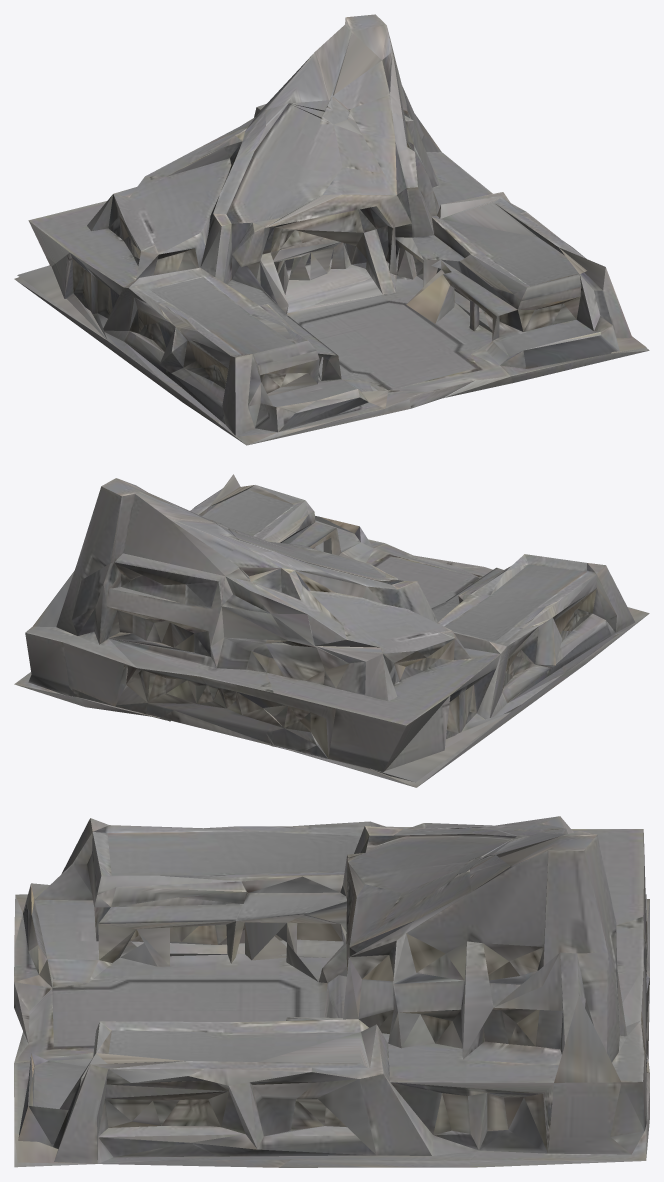
Rendered from imperial_cultural_district_lod2.glb.
3 views of the same model, one above another, from view 1: azimuth 30°, elevation 25°; view 2: azimuth 150°, elevation 25°; view 3: azimuth 270°, elevation 25° (orthographic). The views are drawn at different scales.
Visible parts, largest first — view 1: mesh_node; view 2: mesh_node; view 3: mesh_node.
Boxes of the visible parts, x1,y1,x2,y2 form: mesh_node: [14, 14, 649, 445]; mesh_node: [14, 474, 649, 787]; mesh_node: [14, 816, 649, 1167].
Bounding box in the file's own units: 39.6 × 18.75 × 39.56.
Materials: 1 (1 with a texture image).
